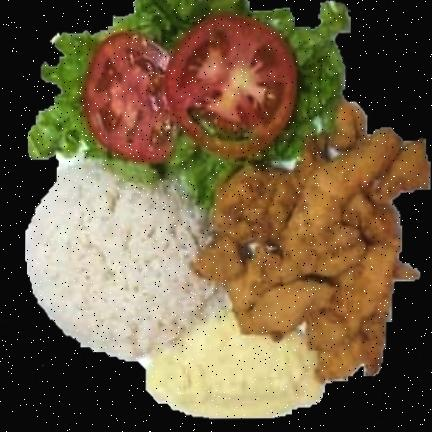chicken: (201, 102, 429, 382)
potato: (146, 311, 324, 418)
rice: (25, 162, 222, 361)
salad: (28, 0, 350, 209)
tomato: (82, 15, 298, 163)
